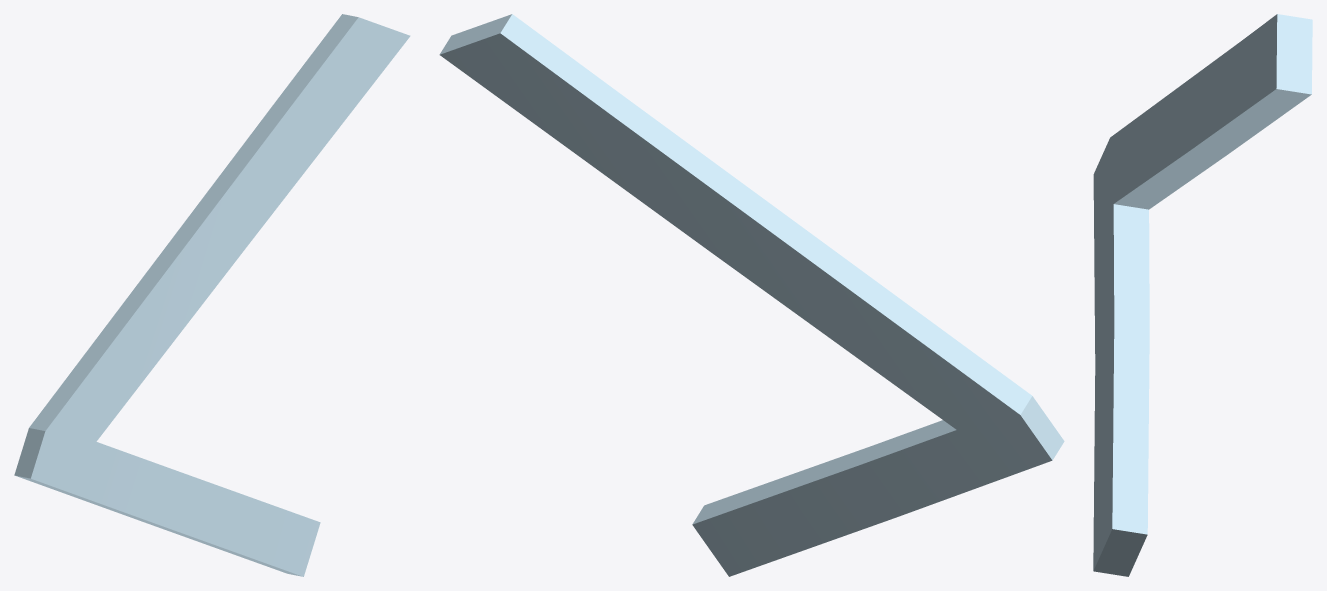
The model's file is Number_7.gltf.
3 renders of one model, left to right at view 1: azimuth 30°, elevation 25°; view 2: azimuth 150°, elevation 25°; view 3: azimuth 270°, elevation 25°, orthographic. The views are drawn at different scales.
Parts seen in each view (by area): view 1: Sub_2_Cell_2_2_Number_7; view 2: Sub_2_Cell_2_2_Number_7; view 3: Sub_2_Cell_2_2_Number_7.
Part boxes in pixels (x1,y1,x2,y2): Sub_2_Cell_2_2_Number_7: [14, 14, 410, 576]; Sub_2_Cell_2_2_Number_7: [439, 14, 1064, 576]; Sub_2_Cell_2_2_Number_7: [1093, 14, 1312, 576].
Size of the model in its own units: 0.024 by 0.0246 by 0.00758.
